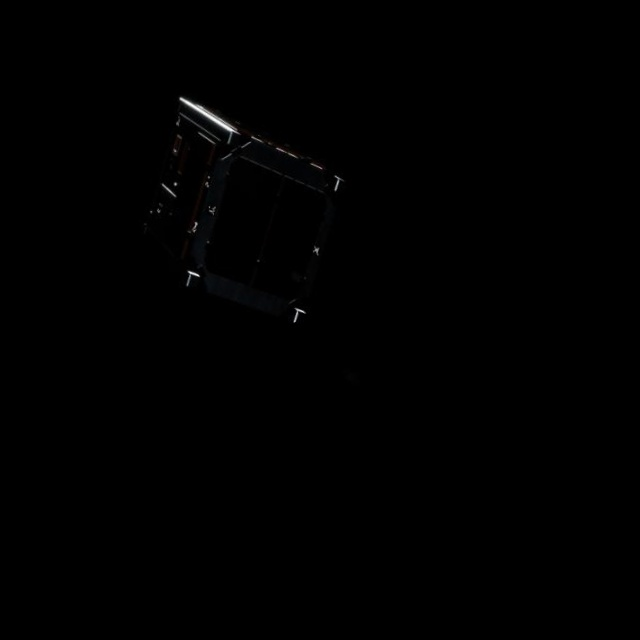medium_debris: (116, 69, 367, 345)
